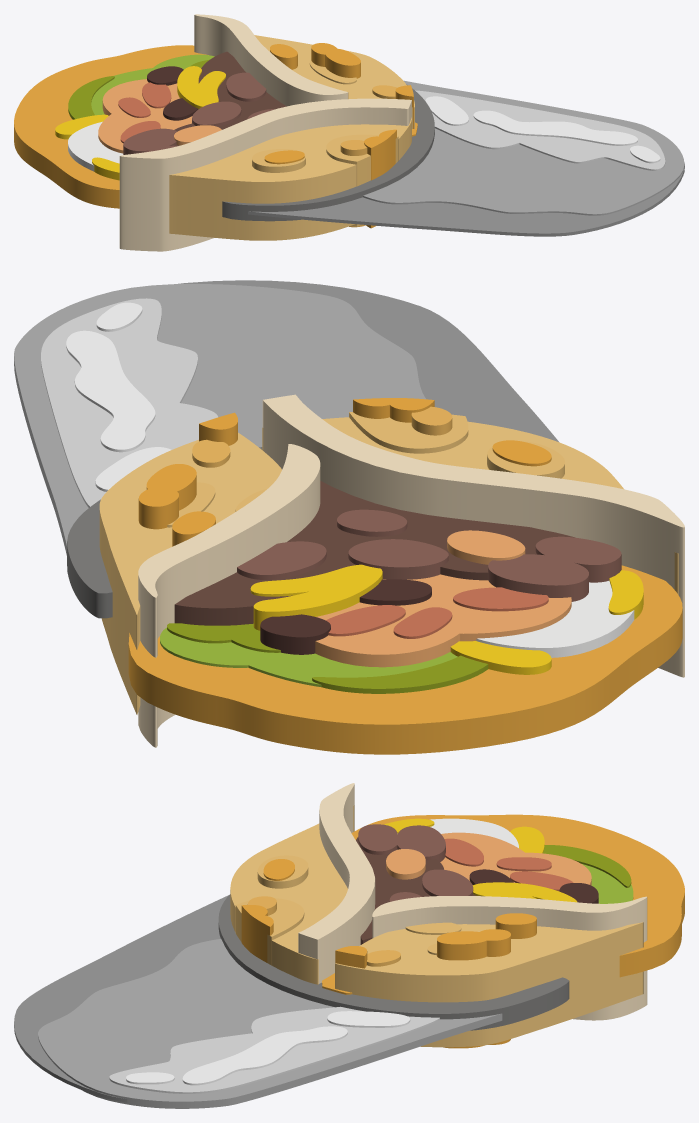
Rendered from emoji_u1f32f.glb.
3 renders of one model, top to bottom at view 1: azimuth 30°, elevation 25°; view 2: azimuth 150°, elevation 25°; view 3: azimuth 270°, elevation 25°, orthographic. The views are drawn at different scales.
Parts seen in each view (by area): view 1: emoji_u1f32f; view 2: emoji_u1f32f; view 3: emoji_u1f32f.
Part boxes in pixels (x1,y1,x2,y2): emoji_u1f32f: [14, 14, 684, 251]; emoji_u1f32f: [14, 280, 684, 754]; emoji_u1f32f: [14, 783, 684, 1108].
Size of the model in its own units: 0.0334 by 0.006 by 0.0339.
